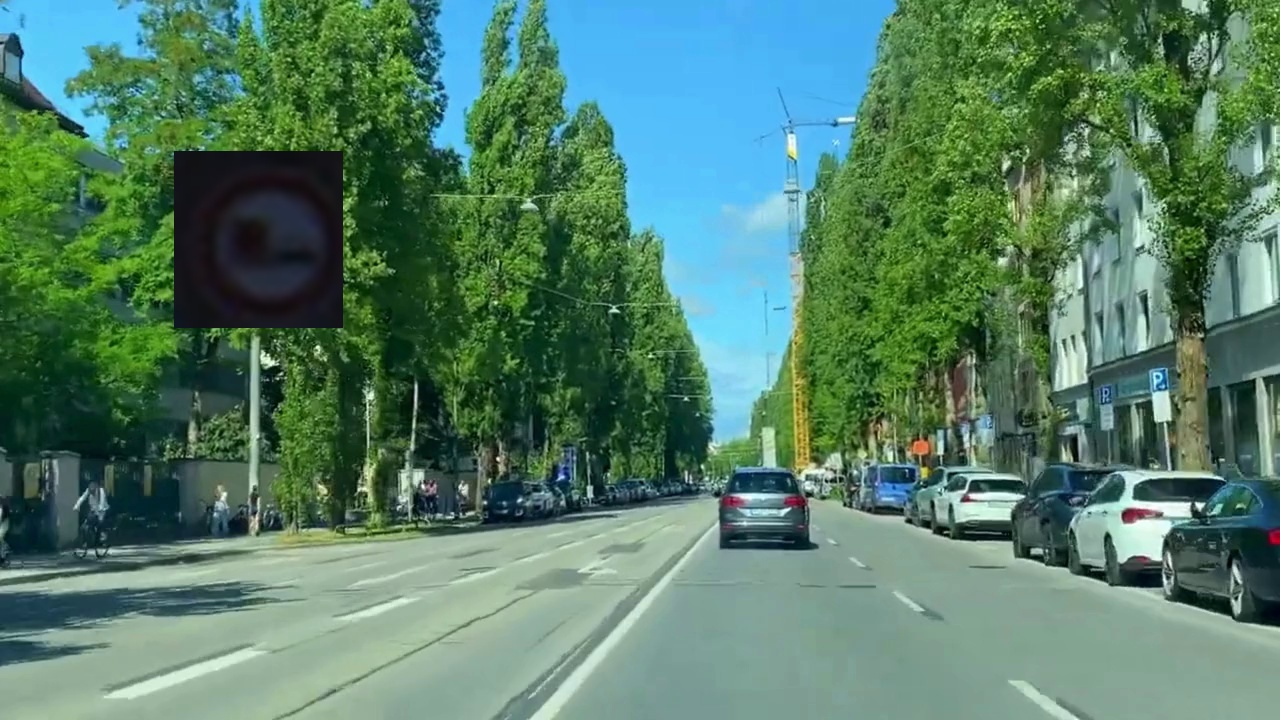No pass >3.5t: (174, 151, 343, 328)
